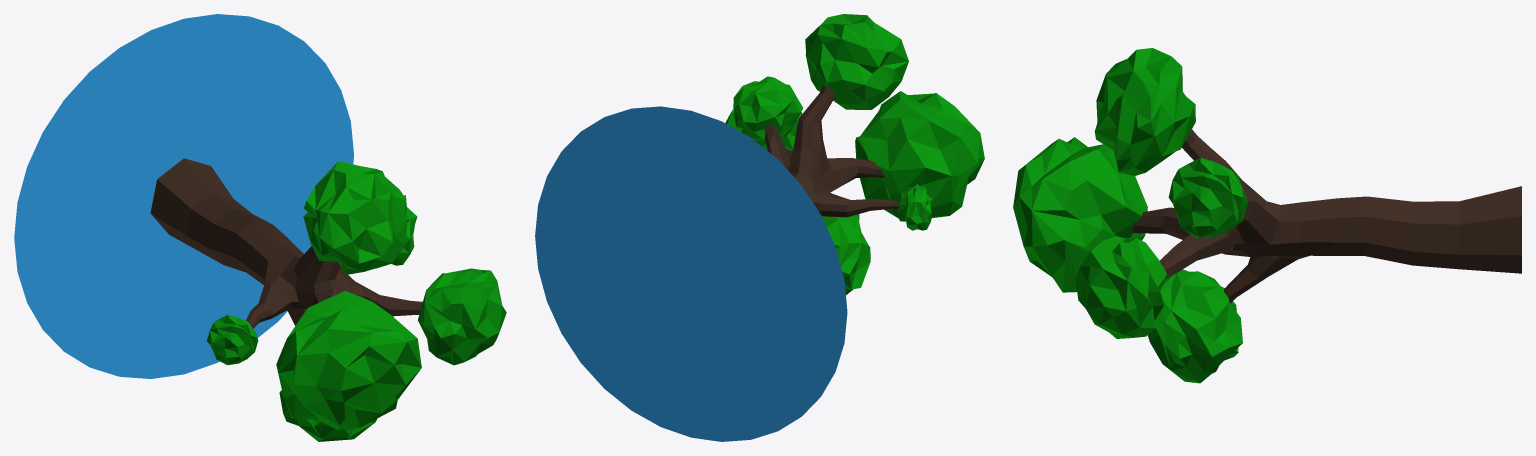
Rendered from Tree1 (1).fbx.
The picture shows the model from 3 angles, left to right: view 1: azimuth 30°, elevation 25°; view 2: azimuth 150°, elevation 25°; view 3: azimuth 270°, elevation 25°; orthographic projection. The views are drawn at different scales.
Visible parts, largest first — view 1: Tree1; view 2: Tree1; view 3: Tree1.
Part boxes in pixels (x1,y1,x2,y2): Tree1: (14,14,506,441); Tree1: (535,14,984,441); Tree1: (1013,48,1521,383).
Bounding box in the file's own units: 591 × 591 × 702.
